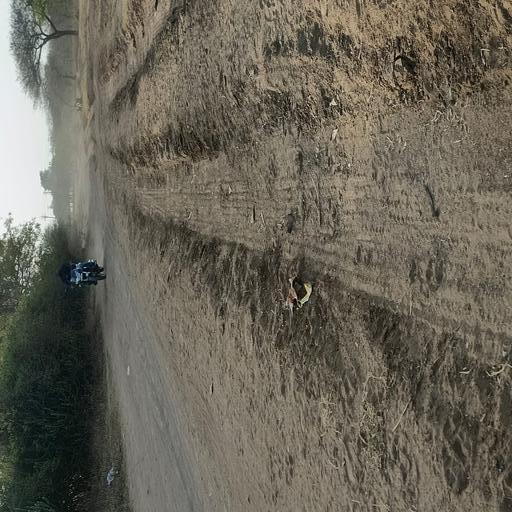vehicle_track: (110, 99, 512, 341), (103, 214, 212, 512)
